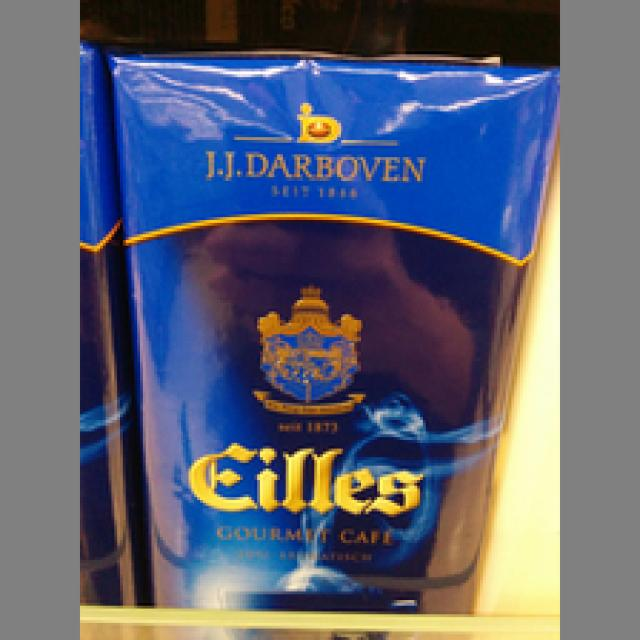groceries: (109, 49, 554, 612)
